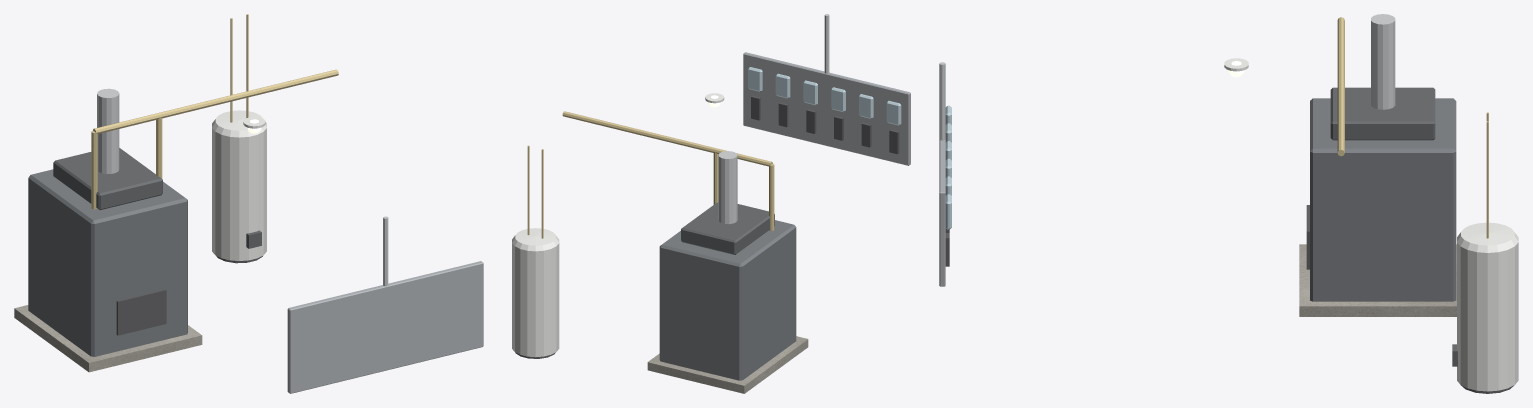
File: boiler_room.glb
3 renders of one model, left to right at view 1: azimuth 30°, elevation 25°; view 2: azimuth 150°, elevation 25°; view 3: azimuth 270°, elevation 25°, orthographic. The views are drawn at different scales.
Visible parts, largest first — view 1: boiler_room_steel_d, boiler_room_steel, boiler_room_paint_w, boiler_room_appl_d, boiler_room_brass, boiler_room_conc_s, boiler_room_galv, boiler_room_dark; view 2: boiler_room_steel_d, boiler_room_steel, boiler_room_paint_w, boiler_room_appl_d, boiler_room_brass, boiler_room_conc_s, boiler_room_glass, boiler_room_galv, boiler_room_dark; view 3: boiler_room_steel_d, boiler_room_paint_w, boiler_room_appl_d, boiler_room_conc_s, boiler_room_galv, boiler_room_brass, boiler_room_steel, boiler_room_glass, boiler_room_dark.
Boxes of the visible parts, bbox=[...] form: boiler_room_steel_d: bbox=[28, 169, 187, 356]; boiler_room_steel: bbox=[287, 261, 483, 393]; boiler_room_paint_w: bbox=[212, 110, 266, 260]; boiler_room_appl_d: bbox=[53, 148, 261, 248]; boiler_room_brass: bbox=[91, 14, 338, 209]; boiler_room_conc_s: bbox=[14, 305, 202, 372]; boiler_room_galv: bbox=[97, 88, 388, 286]; boiler_room_dark: bbox=[116, 256, 262, 335]; boiler_room_steel_d: bbox=[659, 220, 796, 380]; boiler_room_steel: bbox=[743, 52, 910, 165]; boiler_room_paint_w: bbox=[512, 93, 724, 357]; boiler_room_appl_d: bbox=[681, 202, 774, 254]; boiler_room_brass: bbox=[527, 111, 774, 238]; boiler_room_conc_s: bbox=[647, 336, 808, 393]; boiler_room_glass: bbox=[748, 67, 901, 125]; boiler_room_galv: bbox=[718, 14, 829, 224]; boiler_room_dark: bbox=[515, 95, 899, 358]; boiler_room_steel_d: bbox=[1310, 98, 1456, 301]; boiler_room_paint_w: bbox=[1224, 58, 1518, 391]; boiler_room_appl_d: bbox=[1330, 87, 1457, 366]; boiler_room_conc_s: bbox=[1299, 244, 1456, 316]; boiler_room_galv: bbox=[939, 14, 1395, 140]; boiler_room_brass: bbox=[1337, 17, 1488, 238]; boiler_room_steel: bbox=[939, 139, 945, 286]; boiler_room_glass: bbox=[945, 105, 951, 229]; boiler_room_dark: bbox=[945, 205, 1514, 393].
Bounding box in the file's own units: 3.3 × 2.83 × 5.54.
10 materials, 1 textured.
